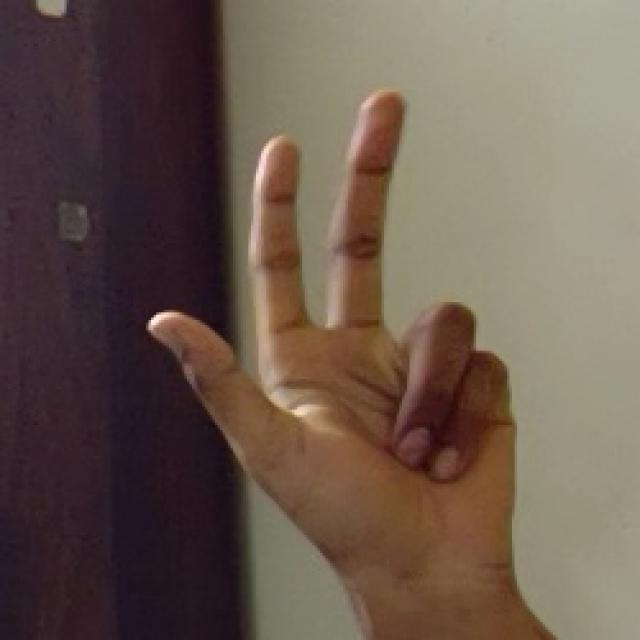Numeric-3: (144, 86, 514, 566)
